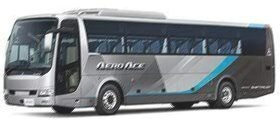bus: (2, 8, 275, 115)
